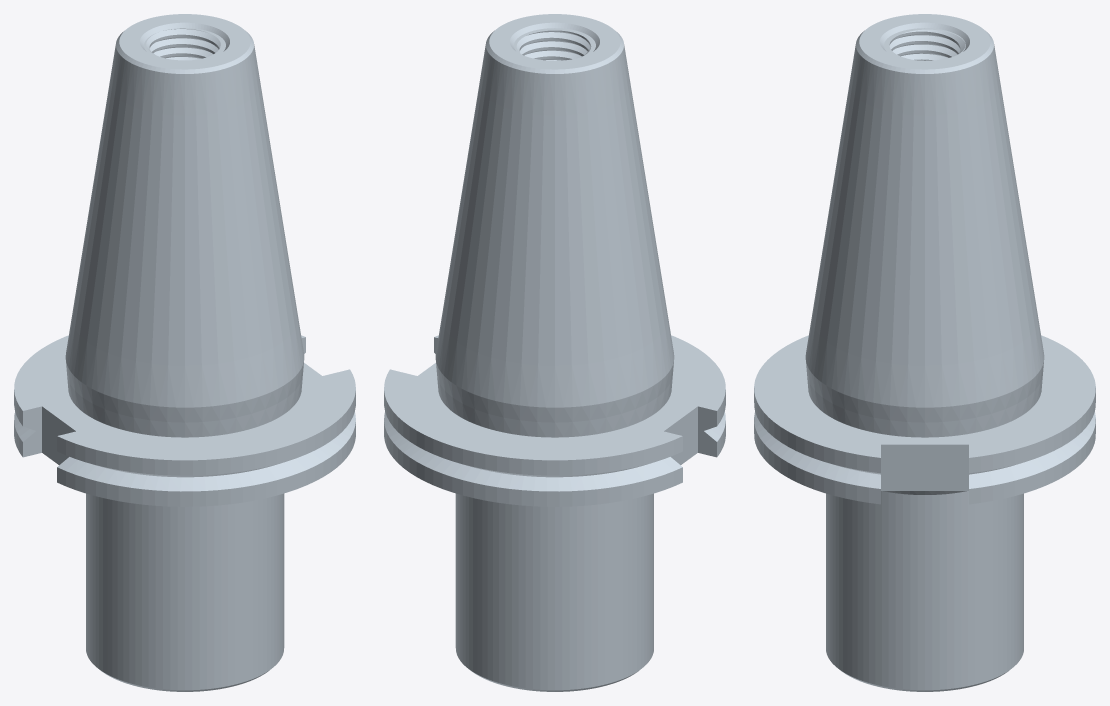
Rendered from t6_bt40_to_bt50_edit_kimi.glb.
3 views of the same model, side by side, from view 1: azimuth 30°, elevation 25°; view 2: azimuth 150°, elevation 25°; view 3: azimuth 270°, elevation 25° (orthographic).
Visible parts, largest first — view 1: BT50_TOOLHOLDER_MONOLITH; view 2: BT50_TOOLHOLDER_MONOLITH; view 3: BT50_TOOLHOLDER_MONOLITH.
Part boxes in pixels (x1,y1,x2,y2): BT50_TOOLHOLDER_MONOLITH: (14, 14, 355, 691); BT50_TOOLHOLDER_MONOLITH: (384, 14, 725, 691); BT50_TOOLHOLDER_MONOLITH: (754, 14, 1095, 691).
Bounding box in the file's own units: 0.0973 × 0.1968 × 0.1.
